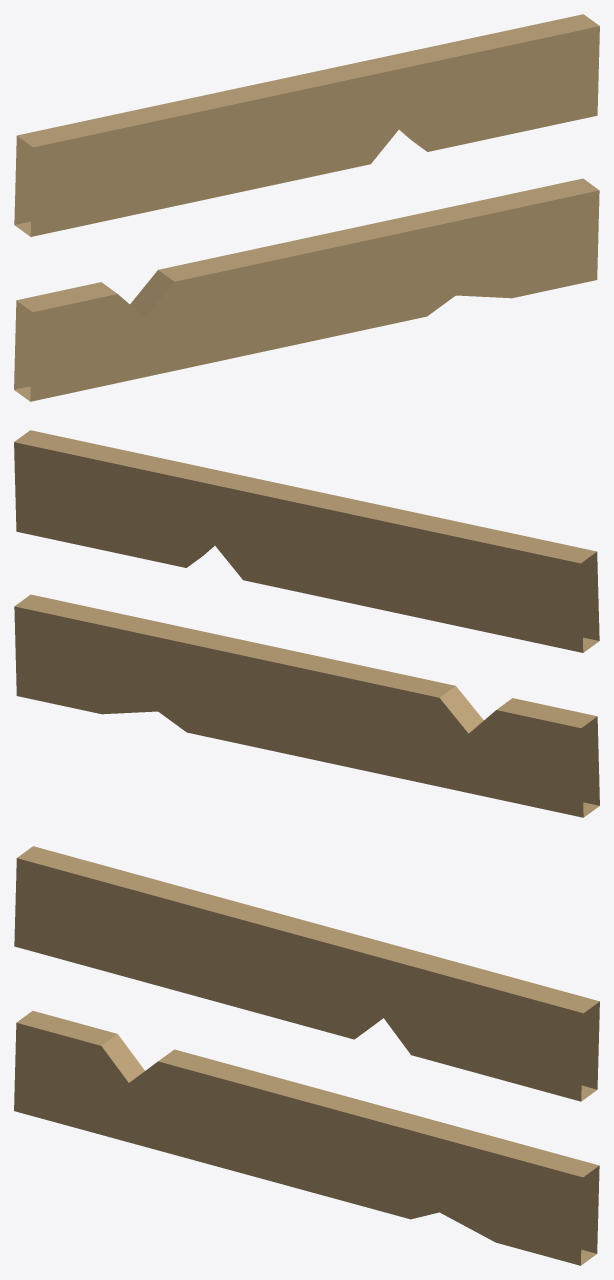
File: Hilly_Prop_Fence_Boards_4.obj
3 views of the same model, one above another, from view 1: azimuth 30°, elevation 25°; view 2: azimuth 150°, elevation 25°; view 3: azimuth 330°, elevation 25° (orthographic).
Visible parts, largest first — view 1: object1, object2; view 2: object1, object2; view 3: object1, object2.
Boxes of the visible parts, x1=… form: object1: x1=14, y1=14, x2=599, y2=236; object2: x1=14, y1=178, x2=599, y2=401; object1: x1=14, y1=430, x2=599, y2=652; object2: x1=14, y1=594, x2=599, y2=817; object1: x1=14, y1=846, x2=599, y2=1101; object2: x1=14, y1=1011, x2=599, y2=1265.
Bounding box in the file's own units: 1 × 0.4552 × 0.05.
